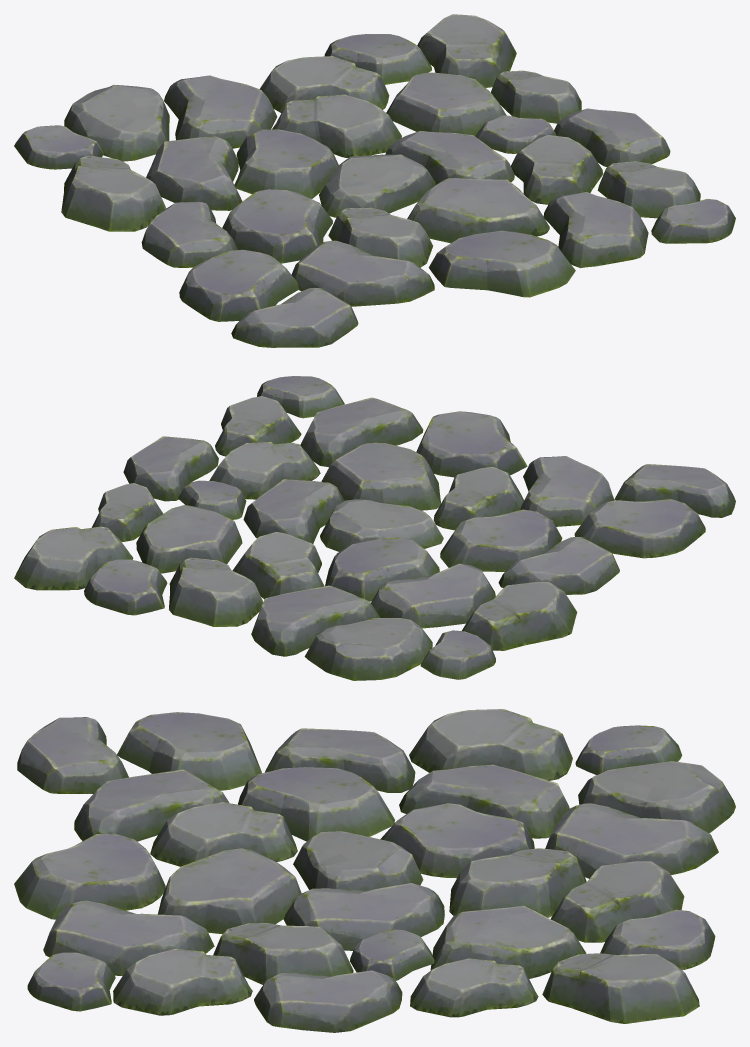
The model's file is rock-path-round-wide-transformed.glb.
3 renders of one model, top to bottom at view 1: azimuth 30°, elevation 25°; view 2: azimuth 150°, elevation 25°; view 3: azimuth 270°, elevation 25°, orthographic. The views are drawn at different scales.
Parts seen in each view (by area): view 1: RockPath_Round_Wide; view 2: RockPath_Round_Wide; view 3: RockPath_Round_Wide.
Boxes of the visible parts, x1,y1,x2,y2 form: RockPath_Round_Wide: [14, 14, 735, 347]; RockPath_Round_Wide: [14, 376, 735, 680]; RockPath_Round_Wide: [14, 709, 735, 1032].
Size of the model in its own units: 2.11 by 0.1128 by 2.13.
Materials: 1 (1 with a texture image).
